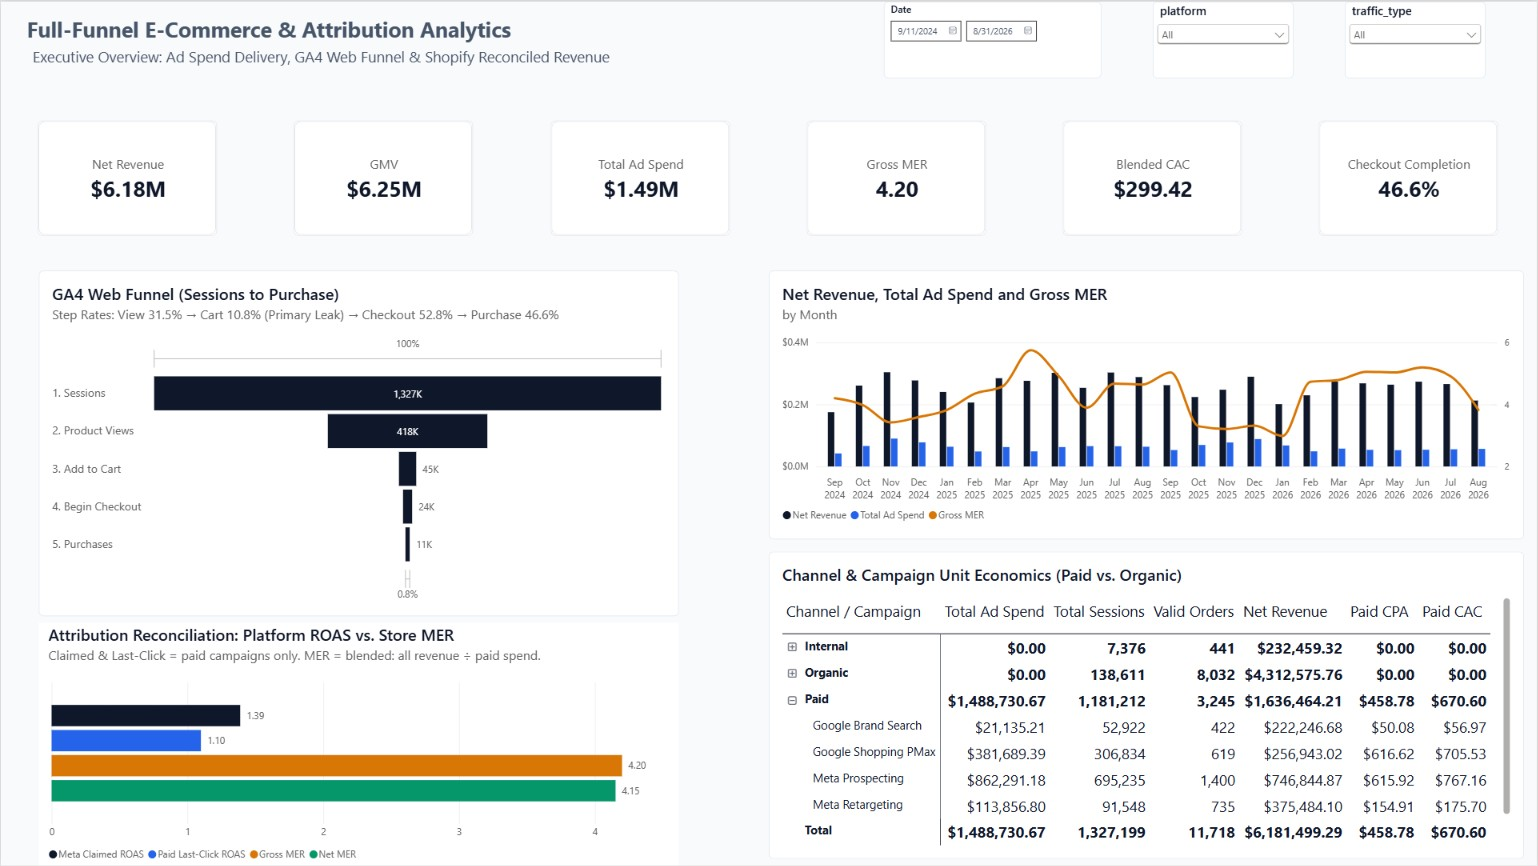

What the dashboard file says about the page in this screenshot:
{"tool":"powerbi","page":{"name":"Full-Funnel Executive","canvas":[1920,1080],"ordinal":0},"visuals":[{"type":"slicer","fields":{"Values":["dim_campaign.traffic_type"]},"box":[1680,0,176,96],"z":0},{"type":"slicer","fields":{"Values":["dim_campaign.platform"]},"box":[1440,0,176,96],"z":1000},{"type":"slicer","fields":{"Values":["Dim_Date.Date"]},"box":[1104,0,272,96],"z":2000},{"type":"cardVisual","fields":{"Data":["Economics Measures.Net Revenue"]},"box":[46.4,149.2,224,144],"z":3000},{"type":"cardVisual","fields":{"Data":["Economics Measures.Blended CAC"]},"box":[1327.7,149.2,224,144],"z":4000},{"type":"cardVisual","fields":{"Data":["Economics Measures.GMV"]},"box":[366.7,149.2,224,144],"z":5000},{"type":"cardVisual","fields":{"Data":["Economics Measures.Total Ad Spend"]},"box":[687.1,149.2,224,144],"z":6000},{"type":"cardVisual","fields":{"Data":["Economics Measures.Gross MER"]},"box":[1007.4,149.2,224,144],"z":7000},{"type":"cardVisual","fields":{"Data":["Funnel & Ad Delivery Measures.Checkout Completion"]},"box":[1648,149.2,224,144],"z":8000},{"type":"funnel","title":"GA4 Web Funnel (Sessions to Purchase)","fields":{"Y":["Funnel & Ad Delivery Measures.Total Sessions","Sum(vw_daily_full_funnel.view_item_sessions)","Sum(vw_daily_full_funnel.add_to_cart_sessions)","Sum(vw_daily_full_funnel.begin_checkout_sessions)","Sum(vw_daily_full_funnel.purchase_sessions)"]},"box":[48,336,800,432],"z":9000},{"type":"lineClusteredColumnComboChart","fields":{"Category":["Dim_Date.Month"],"Y":["Economics Measures.Net Revenue","Economics Measures.Total Ad Spend"],"Y2":["Economics Measures.Gross MER"]},"box":[960,336,944,336],"z":10000},{"type":"clusteredBarChart","title":"Attribution Reconciliation: Platform ROAS vs. Store MER","fields":{"Y":["Economics Measures.Meta Claimed ROAS","Economics Measures.Paid Last-Click ROAS","Economics Measures.Gross MER","Economics Measures.Net MER"]},"box":[48,776,800,304],"z":11000},{"type":"pivotTable","title":"Channel & Campaign Unit Economics (Paid vs. Organic)","fields":{"Rows":["dim_campaign.traffic_type","dim_campaign.campaign_name"],"Values":["Economics Measures.Total Ad Spend","Funnel & Ad Delivery Measures.Total Sessions","Economics Measures.Valid Orders","Economics Measures.Net Revenue","Economics Measures.Paid CPA","Economics Measures.Paid CAC"]},"box":[960,688,944,384],"z":12000},{"type":"textbox","box":[32,16,640,64],"z":13000},{"type":"textbox","box":[32,48,784,80],"z":14000}]}

Visuals, with their boxes in screenshot pixels (x1, y1, x2, y2), scaled from the page's 1920x1080 canvas onto the 1538x866 screenshot:
slicer - dim_campaign.traffic_type: bbox=[1346, 0, 1487, 77]
slicer - dim_campaign.platform: bbox=[1154, 0, 1294, 77]
slicer - Dim_Date.Date: bbox=[884, 0, 1102, 77]
cardVisual - Economics Measures.Net Revenue: bbox=[37, 120, 217, 235]
cardVisual - Economics Measures.Blended CAC: bbox=[1064, 120, 1243, 235]
cardVisual - Economics Measures.GMV: bbox=[294, 120, 473, 235]
cardVisual - Economics Measures.Total Ad Spend: bbox=[550, 120, 730, 235]
cardVisual - Economics Measures.Gross MER: bbox=[807, 120, 986, 235]
cardVisual - Funnel & Ad Delivery Measures.Checkout Completion: bbox=[1320, 120, 1500, 235]
"GA4 Web Funnel (Sessions to Purchase)" funnel: bbox=[38, 269, 679, 616]
lineClusteredColumnComboChart - Dim_Date.Month x Economics Measures.Net Revenue: bbox=[769, 269, 1525, 539]
"Attribution Reconciliation: Platform ROAS vs. Store MER" clusteredBarChart: bbox=[38, 622, 679, 865]
"Channel & Campaign Unit Economics (Paid vs. Organic)" pivotTable: bbox=[769, 552, 1525, 860]
textbox: bbox=[26, 13, 538, 64]
textbox: bbox=[26, 38, 654, 103]
